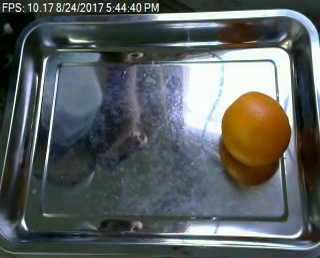Orange: (220, 90, 292, 167)
